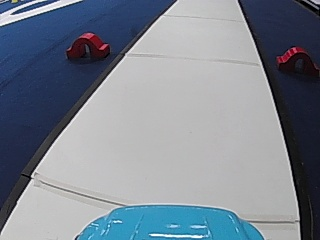bridge: (64, 29, 110, 61), (275, 43, 318, 76)
